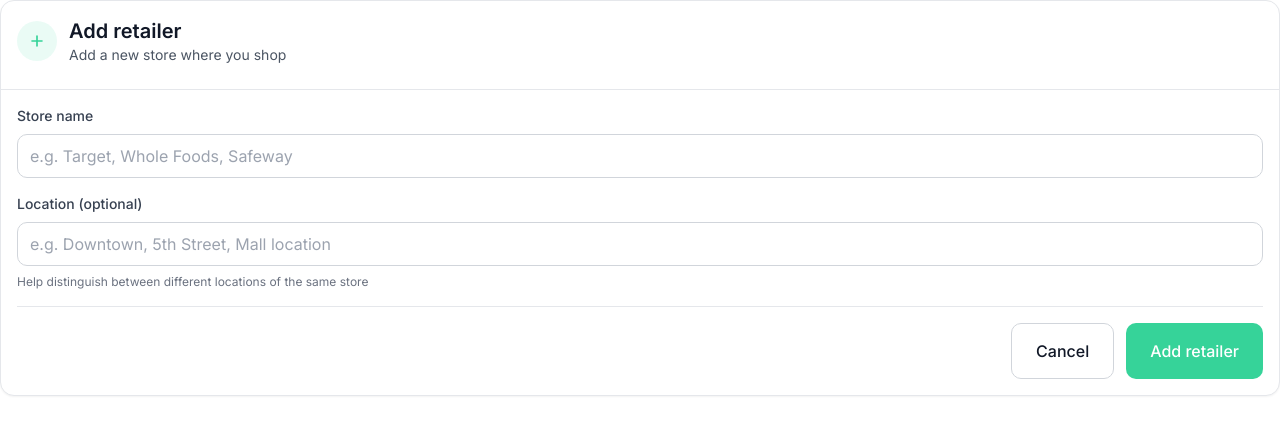
it: RetailerForm › validates required fields
This screenshot has width=1280, height=441.
Step 1. Click the button "Add retailer" → (1195, 351), box [1126,323,1263,379]
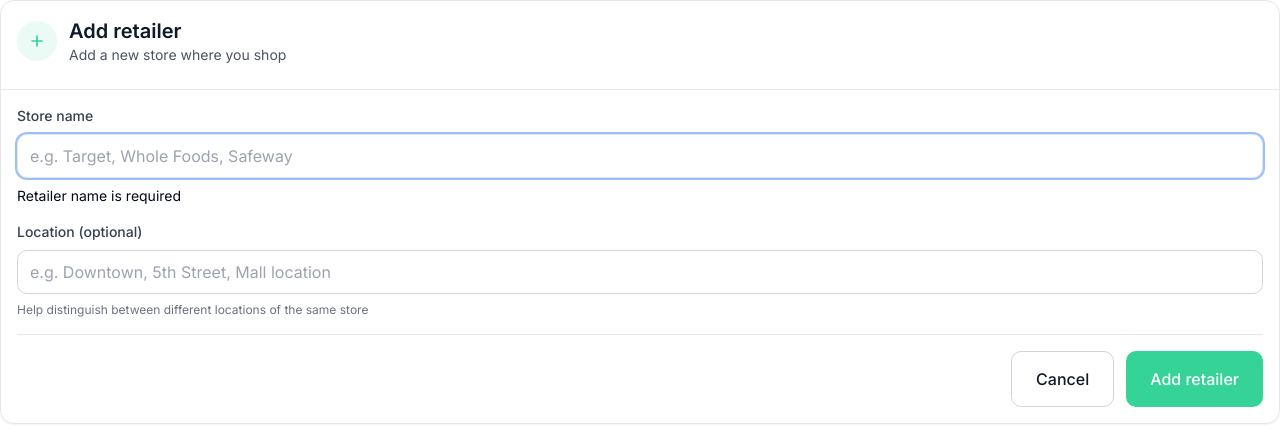
Result: the text "Retailer name is required" is shown at [17,187,181,204]
